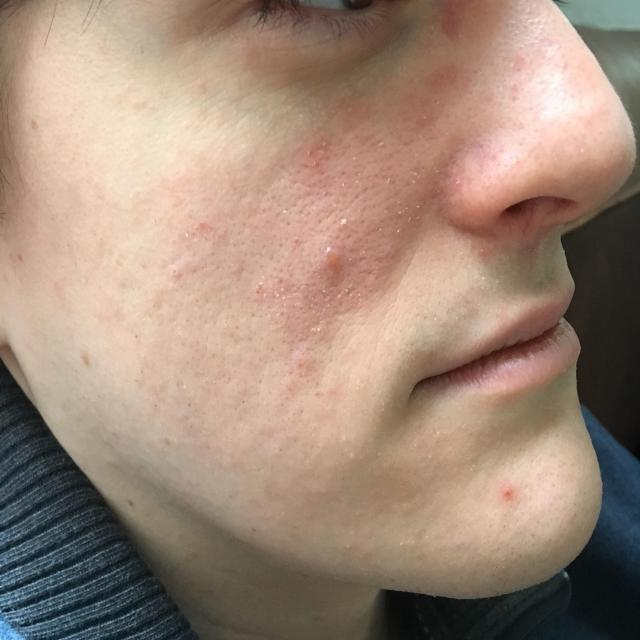Acne: (306, 220, 378, 307), (472, 467, 544, 526)
